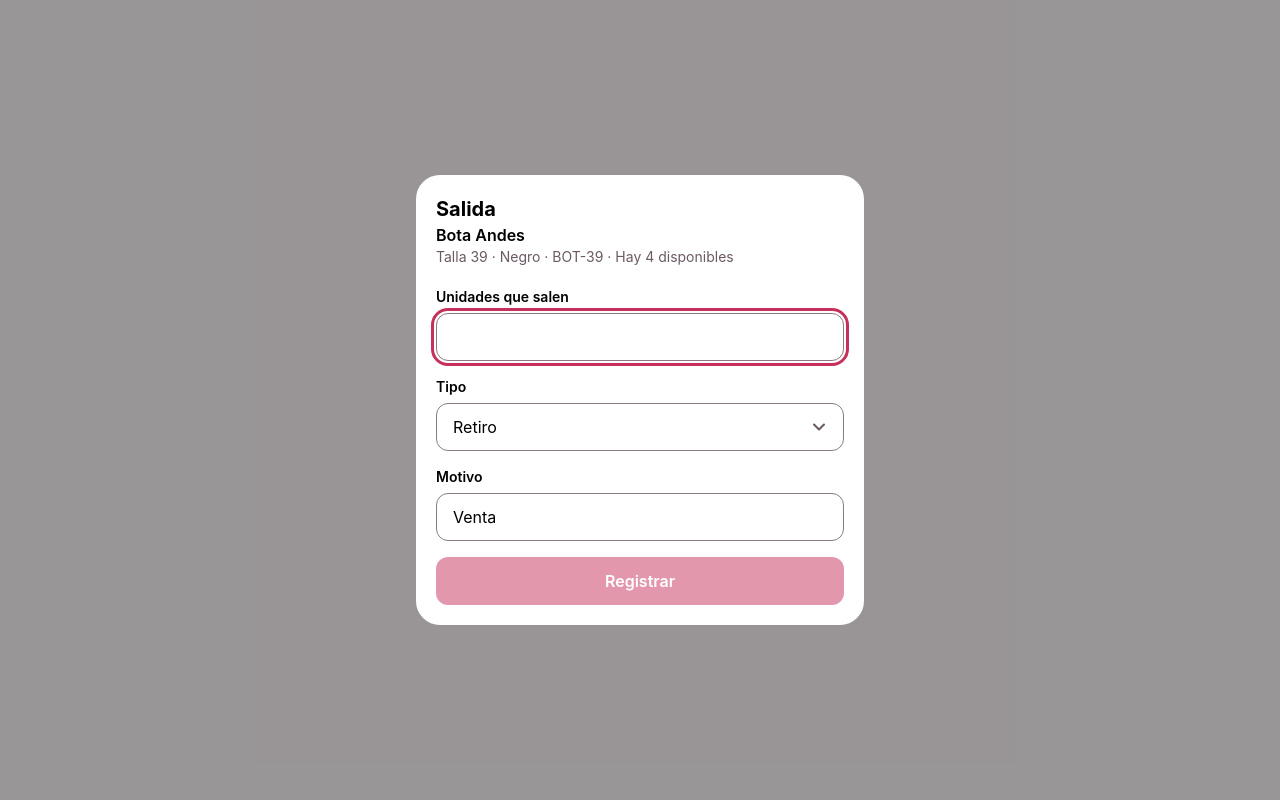
Scenario: Movimiento — un doble clic en Registrar envía un solo comando
Type "1" into the field labelled "Unidades que salen" at (640, 337), box 436,313 -> 844,361
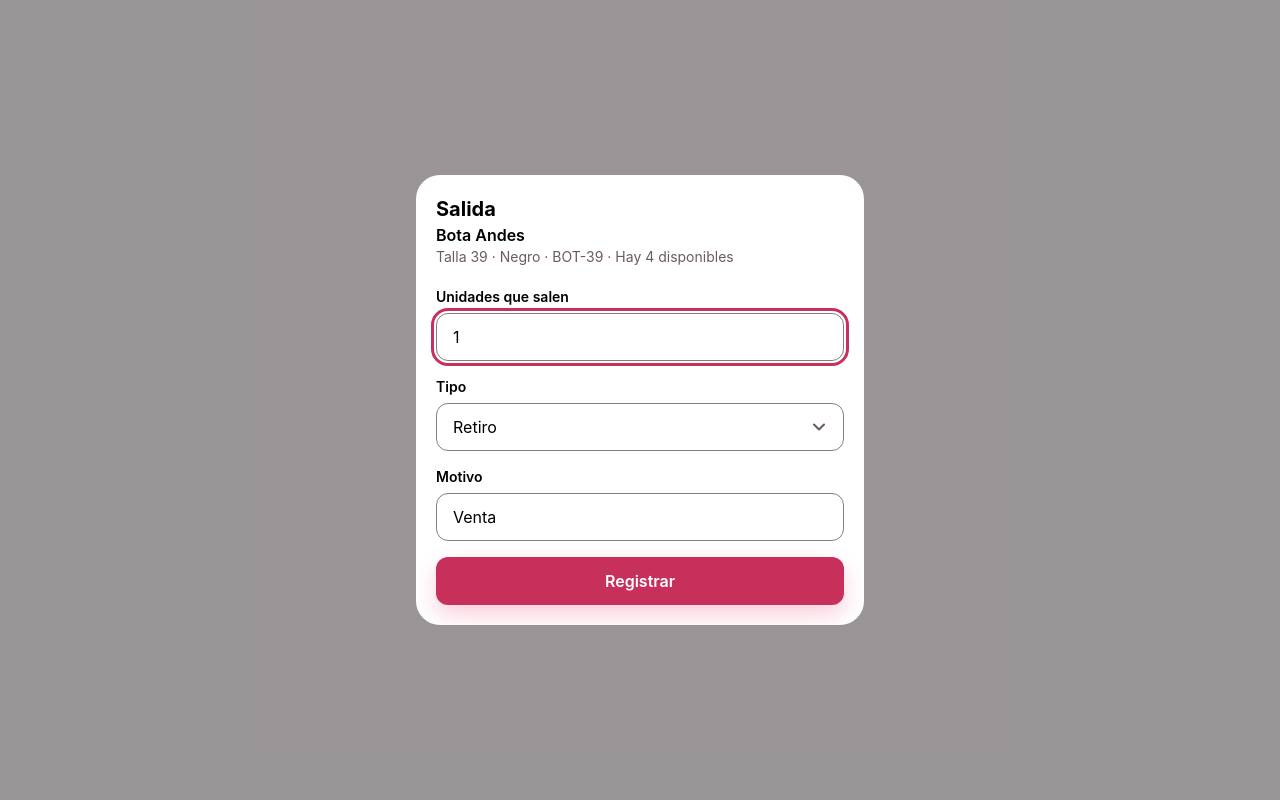
Click the button "Registrar" at (640, 581), box 436,557 -> 844,605
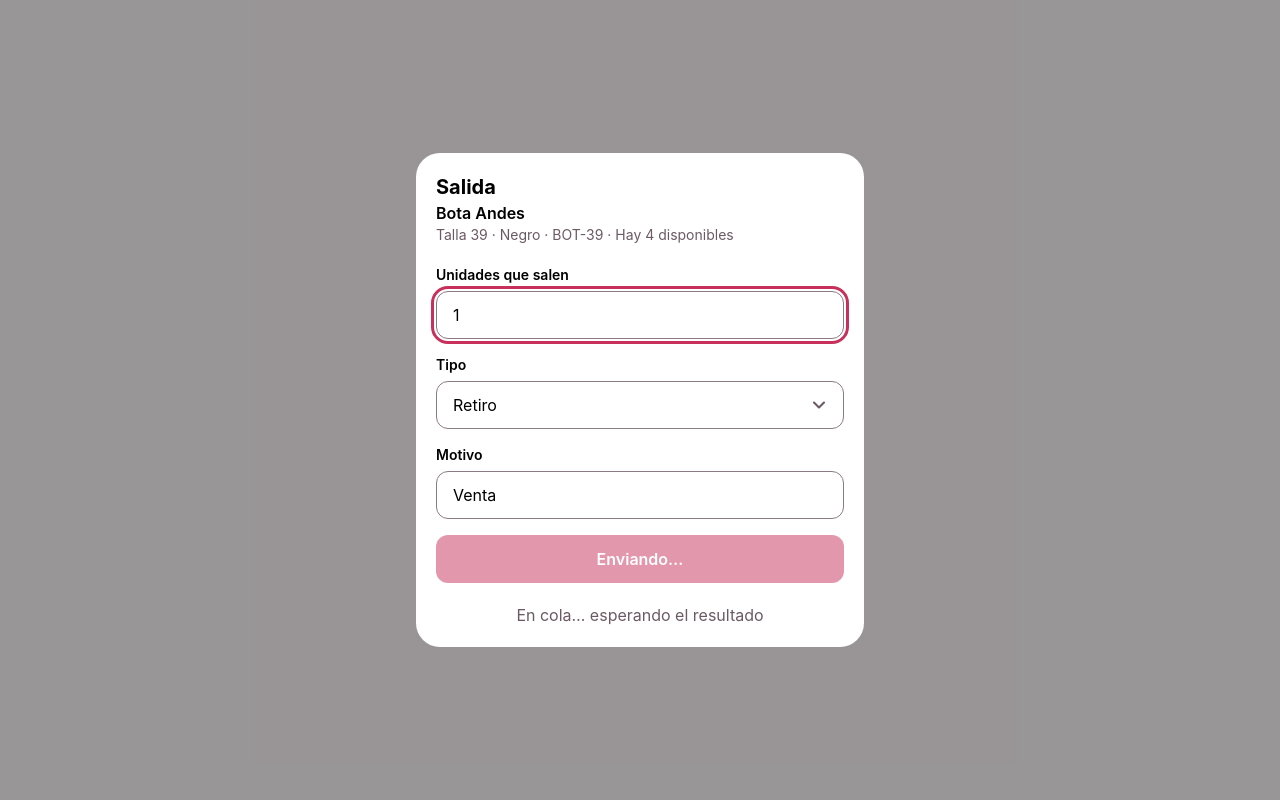
Click the button named "Registrar" at (640, 559), box 436,535 -> 844,583
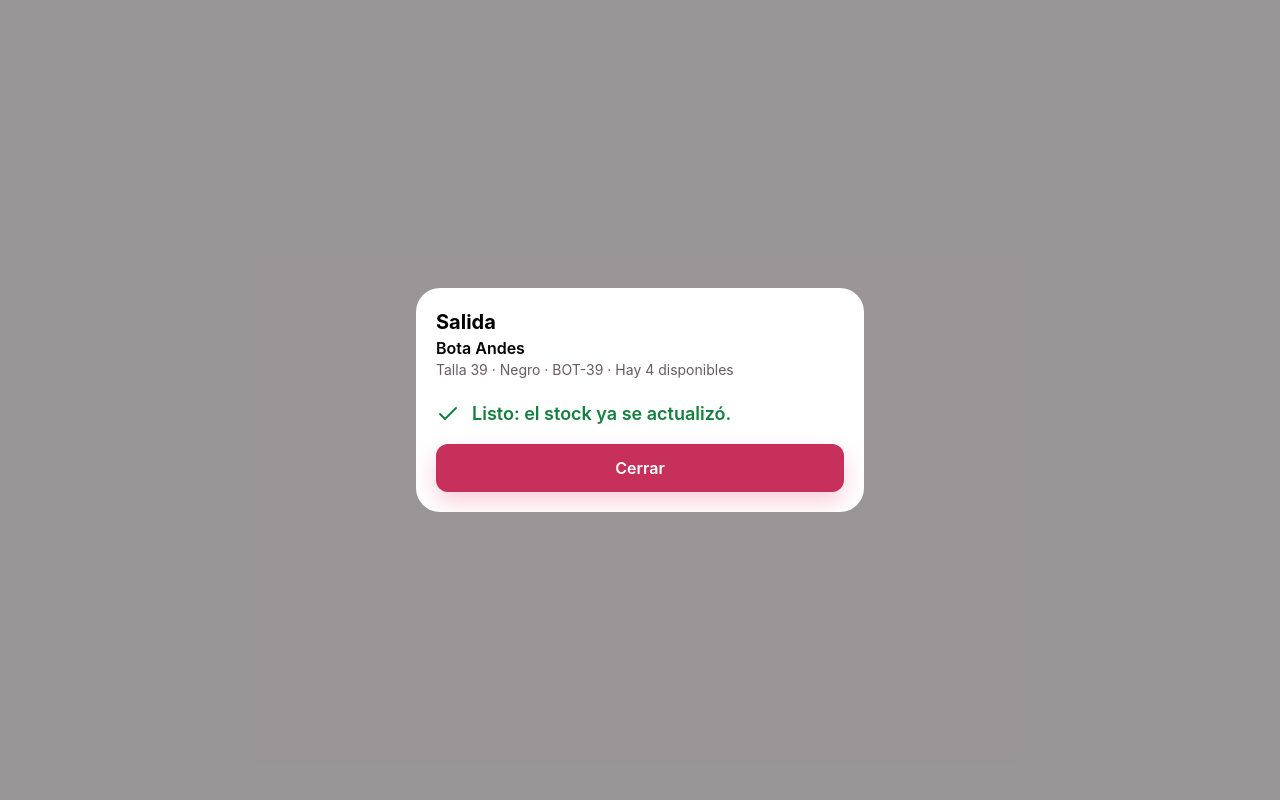
Result: the text "Listo: el stock ya se actualizó." is shown at 436,402 -> 731,426
